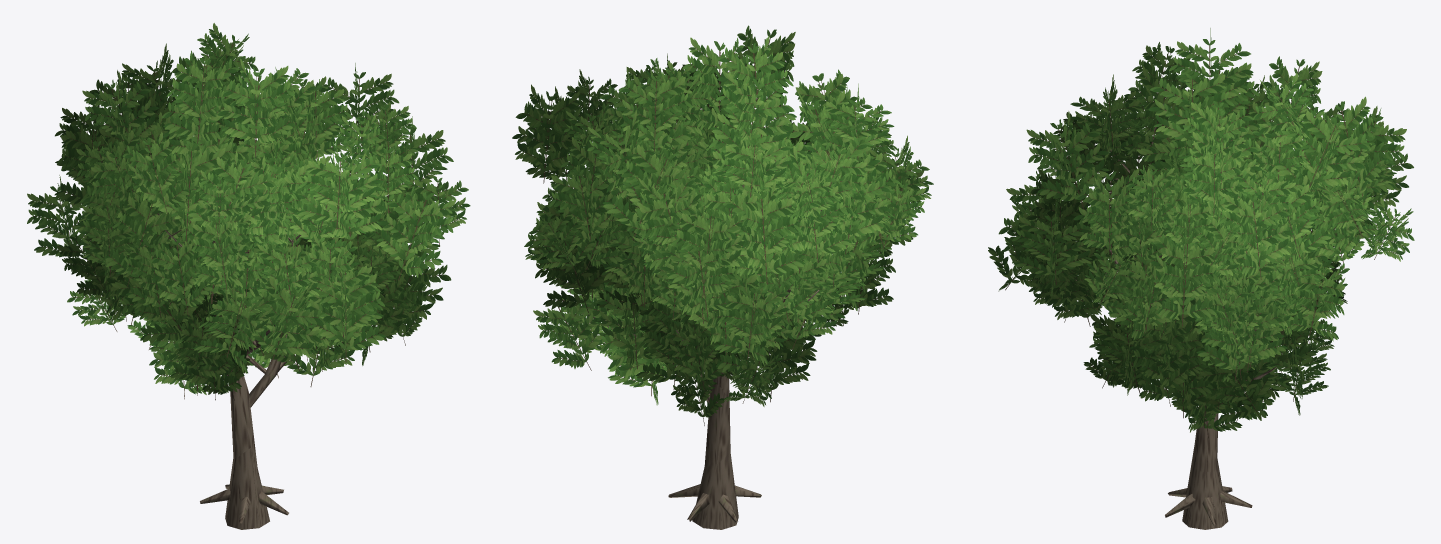
File: tree_a.glb
The picture shows the model from 3 angles, left to right: view 1: azimuth 30°, elevation 25°; view 2: azimuth 150°, elevation 25°; view 3: azimuth 270°, elevation 25°; orthographic projection. The views are drawn at different scales.
Parts seen in each view (by area): view 1: TreeA_leaves, TreeA_trunk; view 2: TreeA_leaves, TreeA_trunk; view 3: TreeA_leaves, TreeA_trunk.
Part boxes in pixels (x1,y1,x2,y2): TreeA_leaves: (27, 23, 470, 400); TreeA_trunk: (142, 201, 329, 529); TreeA_leaves: (512, 25, 933, 425); TreeA_trunk: (562, 185, 851, 529); TreeA_leaves: (988, 28, 1414, 438); TreeA_trunk: (1075, 127, 1332, 529).
Size of the model in its own units: 7.76 by 9.43 by 8.27.
Materials: 2 (2 with a texture image).
